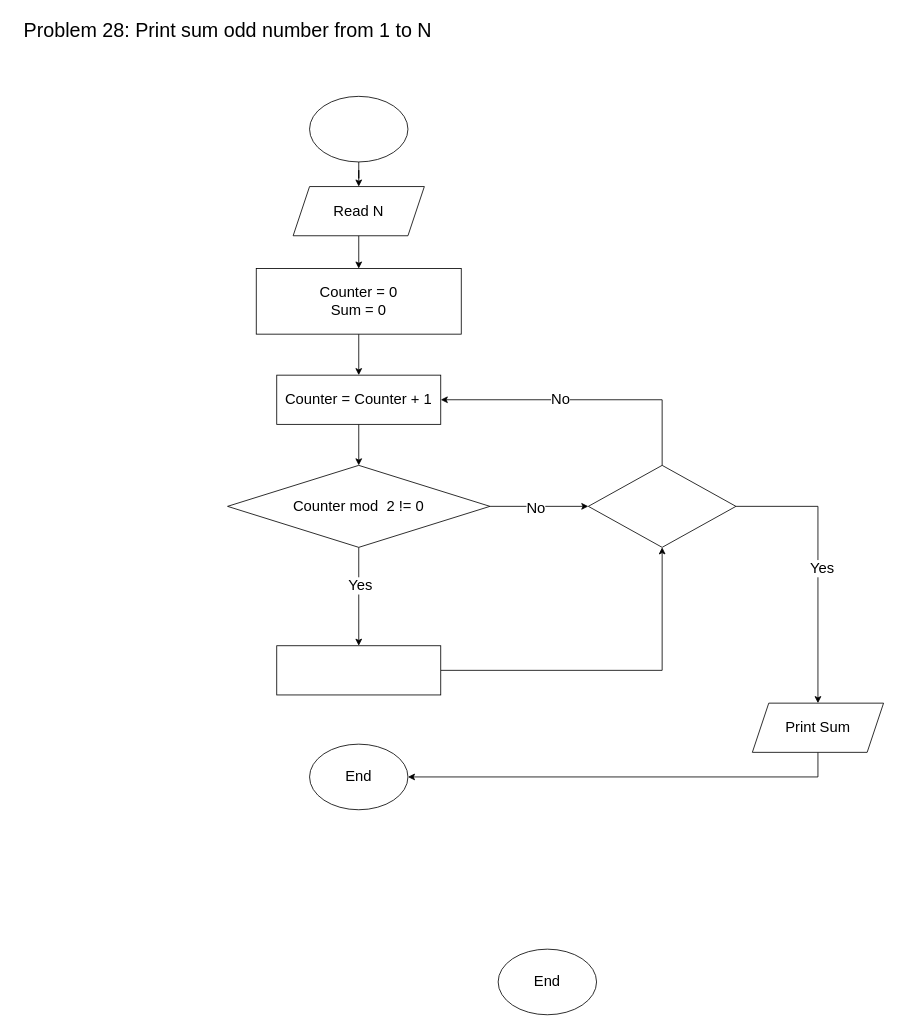
Some shapes in this 898 by 1029 pixel diagram are drawn without their labels. The shapes that lost their labels are listed below. From the top down, each one's centre as x and y in pixels, then its label:
(x=358, y=129): Start
(x=662, y=506): Counter = N
(x=358, y=670): Sum = Sum + Counter
